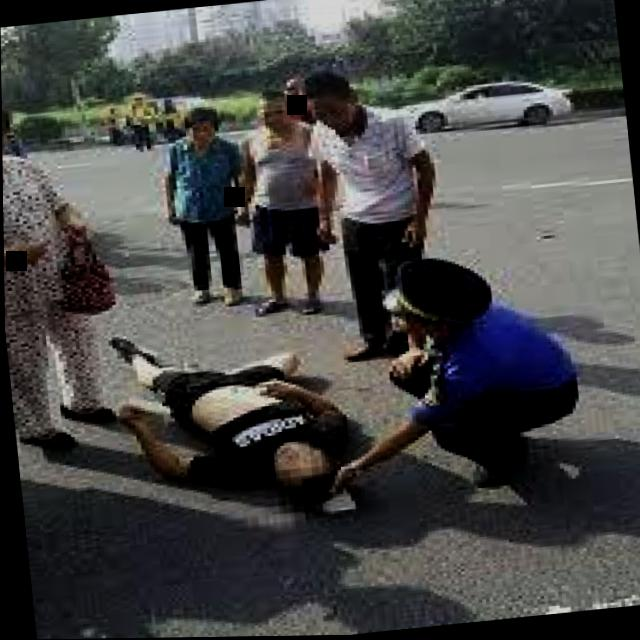Fall-Detected: (80, 299, 379, 532)
